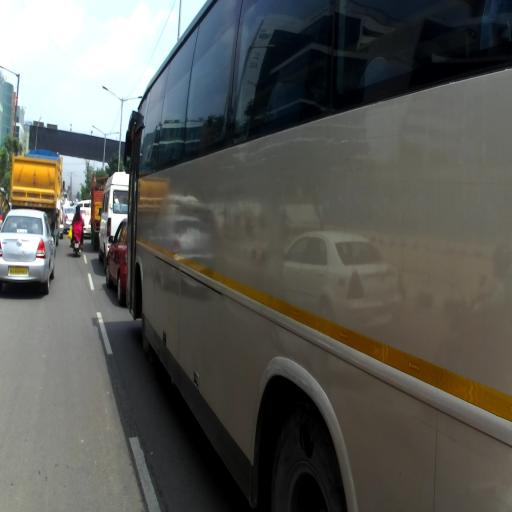street_light_0: (102, 84, 124, 105), (122, 92, 144, 106), (91, 123, 106, 137), (104, 130, 122, 138)
